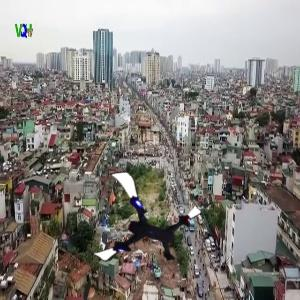drone: (89, 178, 193, 282)
